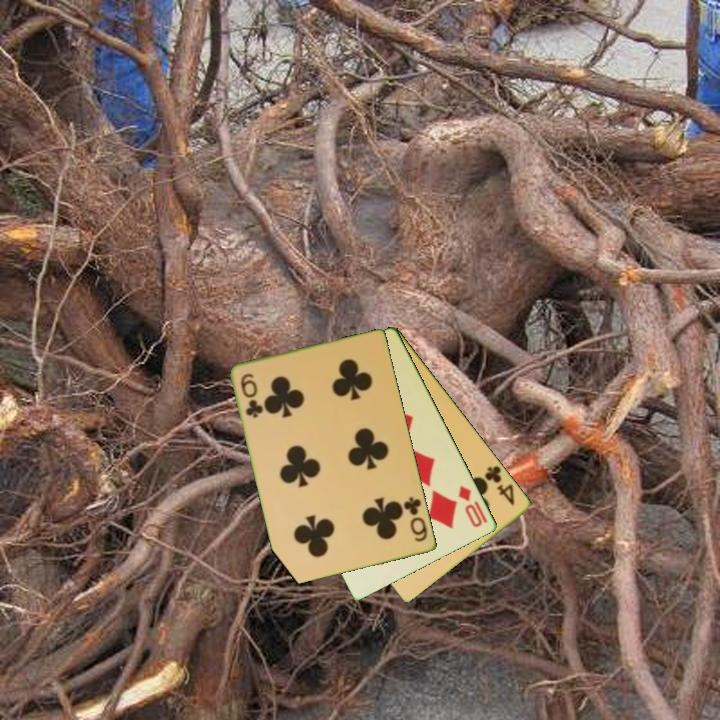10d: (455, 482, 486, 531)
4c: (479, 462, 518, 508)
6c: (400, 494, 431, 545), (237, 370, 265, 421)
